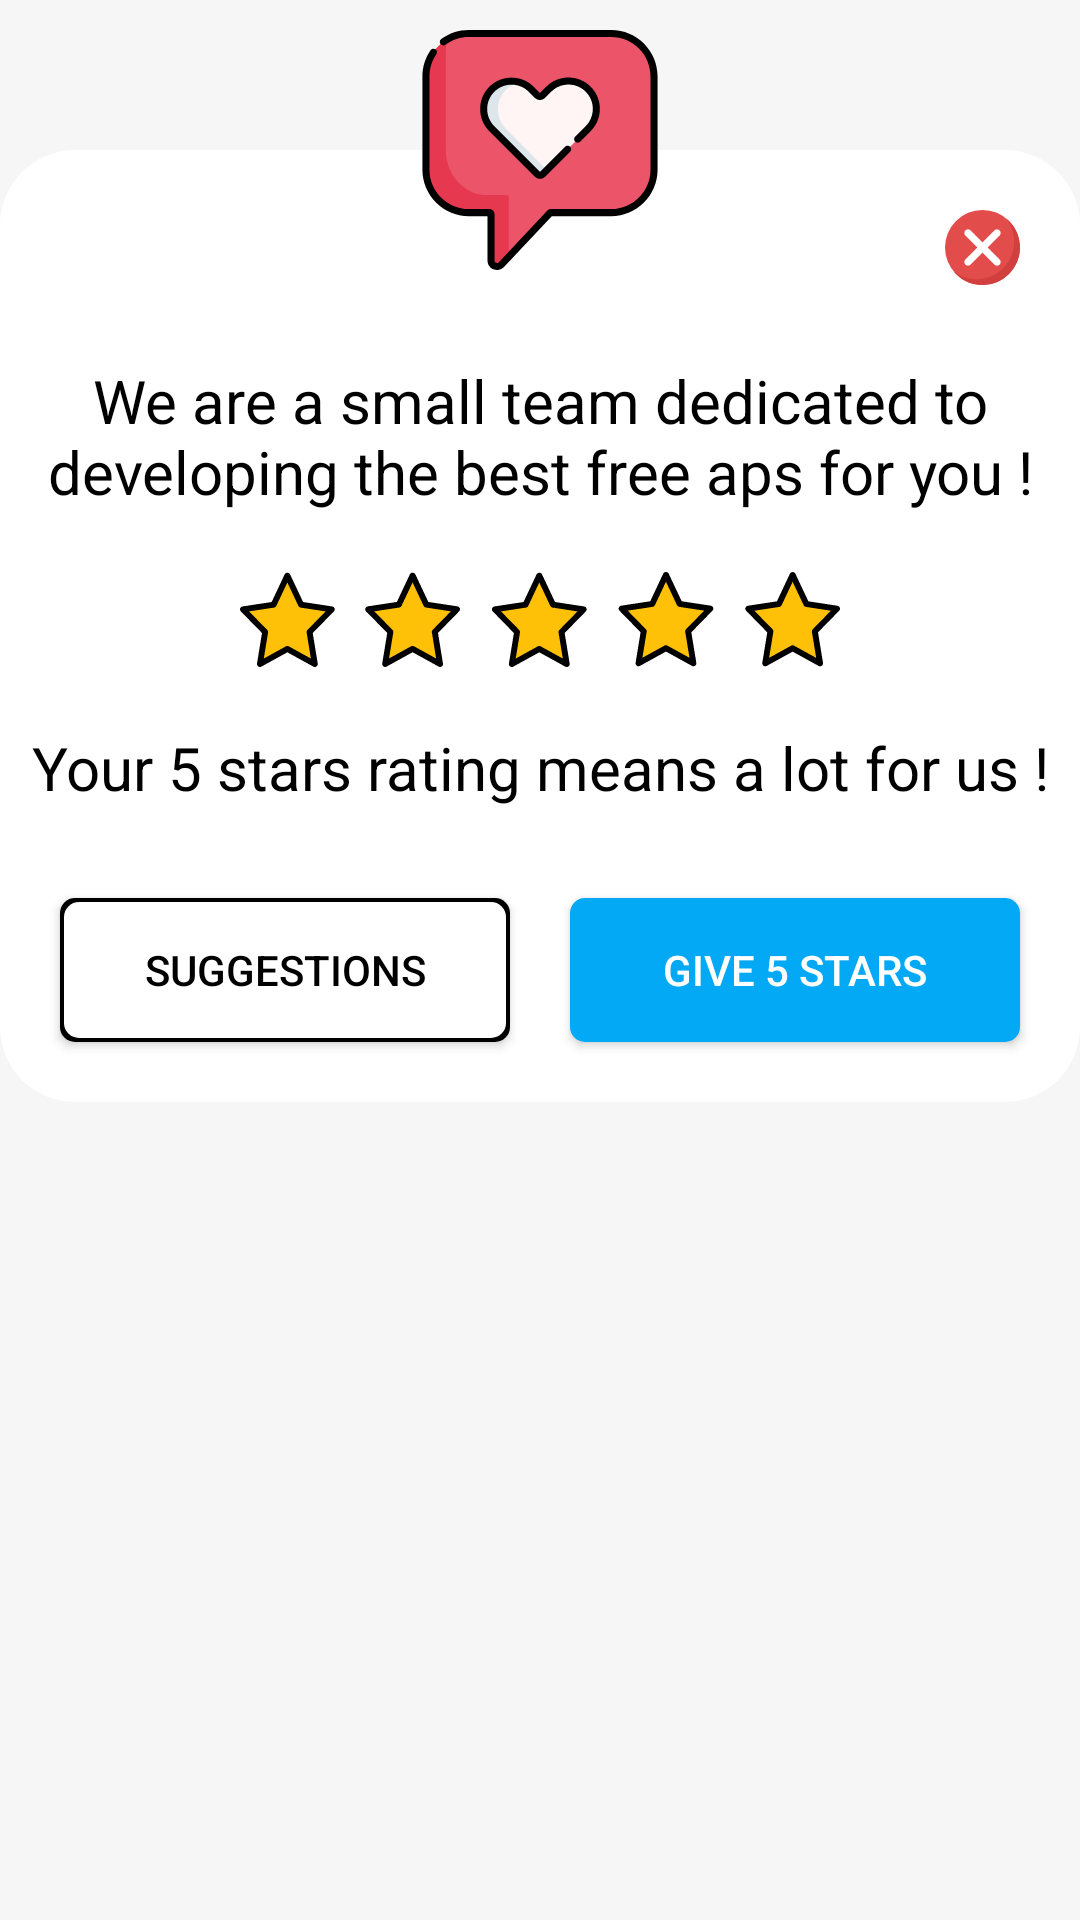

Icon bounding boxes for this 1080w x 1920h phone screenshot, format bbox(x1, y1, x2, y2):
cancel: bbox(945, 210, 1020, 285)
love: bbox(422, 30, 658, 270)
